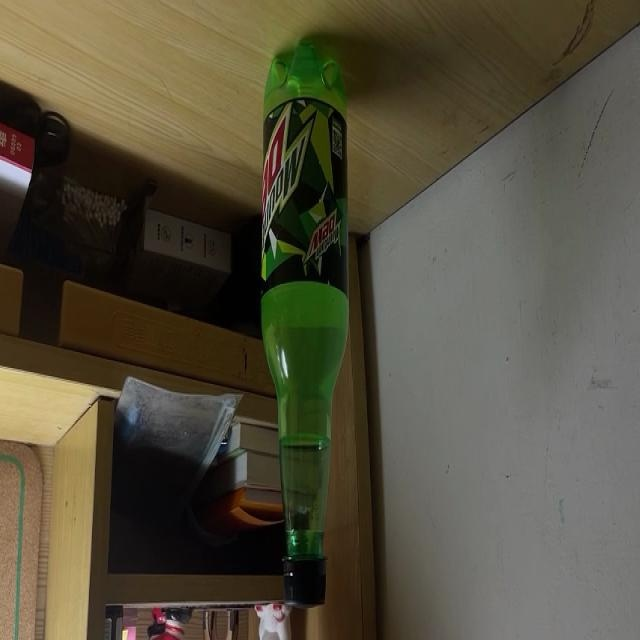Mountain-Dew: (261, 45, 348, 606)
